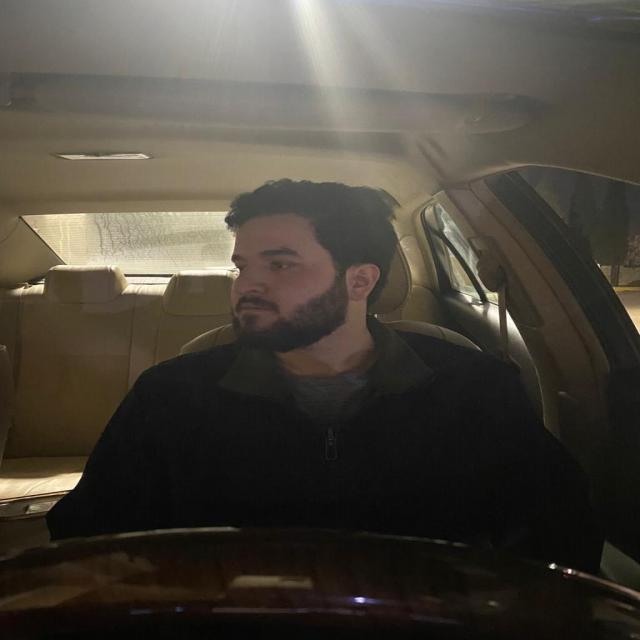LeftRight: (222, 176, 402, 353)
